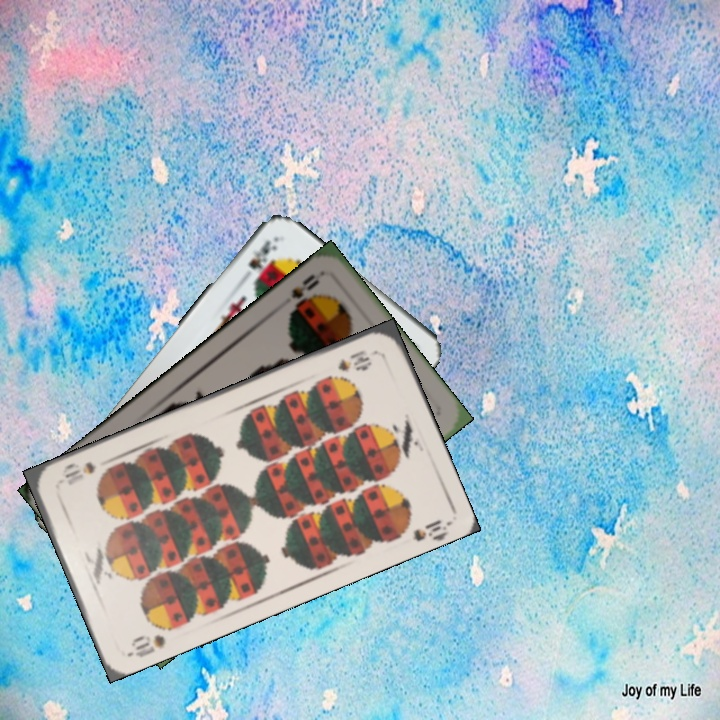S10: (334, 346, 379, 375), (125, 630, 168, 660)
SK: (244, 236, 281, 272)
SO: (284, 269, 325, 317)
